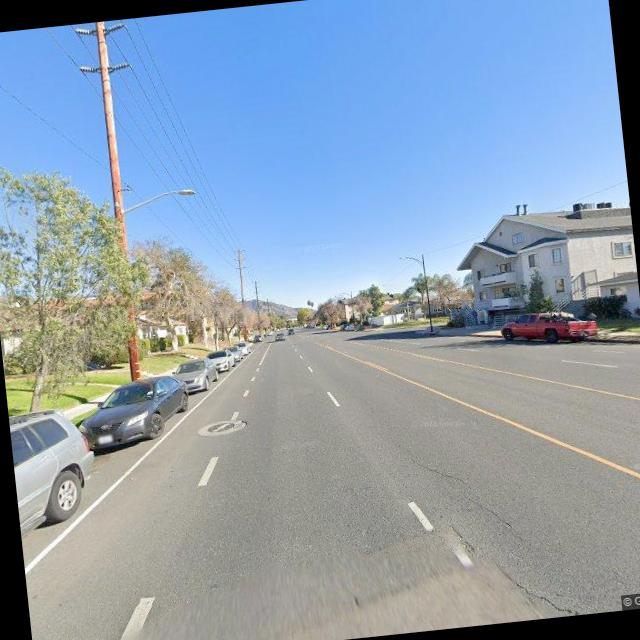pothole: (396, 432, 514, 540), (448, 516, 562, 626)
